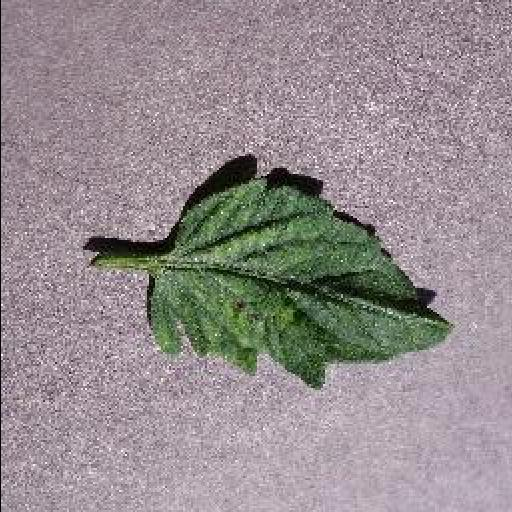Mosaic Virus: (144, 178, 452, 390)
